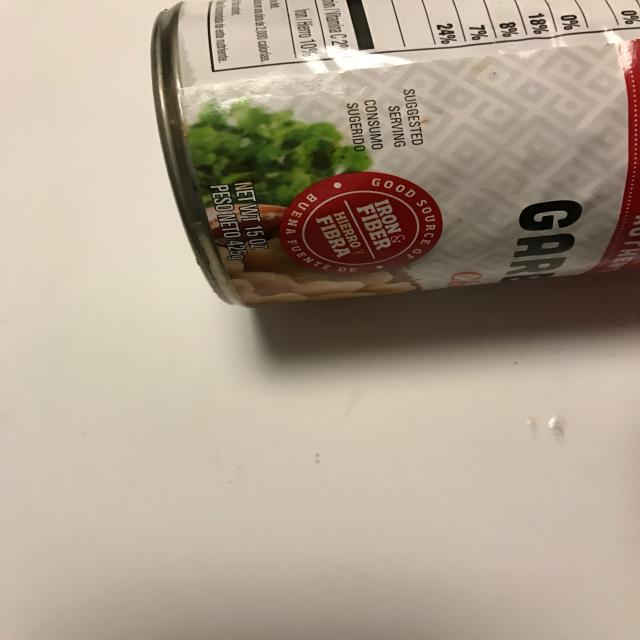Metal: (128, 1, 640, 320)
